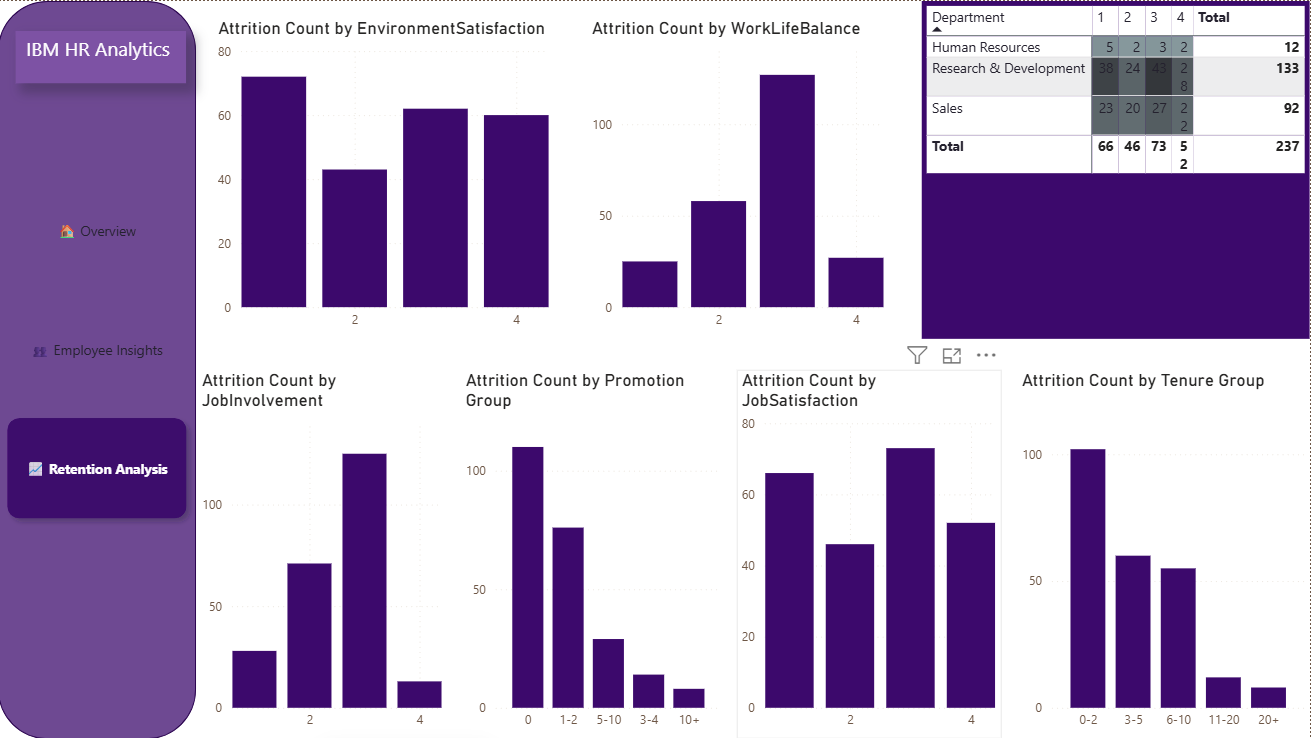

What the dashboard file says about the page in this screenshot:
{"tool":"powerbi","page":{"name":"📈 Retention Analysis","canvas":[1280,720],"ordinal":2},"visuals":[{"type":"clusteredColumnChart","fields":{"Y":["IBM HR.Attrition Count"],"Category":["IBM HR.JobSatisfaction"]},"box":[721.3,360,257.3,360],"z":0},{"type":"shape","box":[0,0,193.2,720.2],"z":500,"group":"g2"},{"type":"clusteredColumnChart","fields":{"Category":["IBM HR.EnvironmentSatisfaction"],"Y":["IBM HR.Attrition Count"]},"box":[210.3,15.9,332.6,313],"z":1000},{"type":"clusteredColumnChart","fields":{"Category":["IBM HR.JobInvolvement"],"Y":["IBM HR.Attrition Count"]},"box":[193.3,360,244,360],"z":2000},{"type":"clusteredColumnChart","fields":{"Y":["IBM HR.Attrition Count"],"Category":["IBM HR.Tenure Group"]},"box":[993.3,360,286.7,360],"z":3000},{"type":"clusteredColumnChart","fields":{"Category":["IBM HR.Promotion Group"],"Y":["IBM HR.Attrition Count"]},"box":[450.7,360,260,360],"z":4000},{"type":"pivotTable","fields":{"Rows":["IBM HR.Department"],"Columns":["IBM HR.JobSatisfaction"],"Values":["IBM HR.Attrition Count"]},"box":[901.3,0,378.7,329.3],"z":5000},{"type":"group","id":"g1","title":"Group 2","box":[0,0,193.2,720.2],"z":6000},{"type":"clusteredColumnChart","fields":{"Category":["IBM HR.WorkLifeBalance"],"Y":["IBM HR.Attrition Count"]},"box":[574.7,15.9,294.7,313],"z":7000},{"type":"textbox","box":[17.1,29.3,166.3,51.4],"z":8000},{"type":"group","id":"g2","title":"Group 1","box":[0,0,193.2,720.2],"z":9002,"group":"g1"},{"type":"pageNavigator","box":[0,166.3,193.2,351],"z":15001,"group":"g2"}]}

Visuals, with their boxes on the page's 1280x720 design canvas (x1, y1, x2, y2). These are canvas units, not pixel positions in the 1311x738 screenshot, which may show the page scaled, cropped or inside an application window:
clusteredColumnChart - IBM HR.Attrition Count x IBM HR.JobSatisfaction: (721,360,979,720)
shape: (0,0,193,720)
clusteredColumnChart - IBM HR.EnvironmentSatisfaction x IBM HR.Attrition Count: (210,16,543,329)
clusteredColumnChart - IBM HR.JobInvolvement x IBM HR.Attrition Count: (193,360,437,720)
clusteredColumnChart - IBM HR.Attrition Count x IBM HR.Tenure Group: (993,360,1280,720)
clusteredColumnChart - IBM HR.Promotion Group x IBM HR.Attrition Count: (451,360,711,720)
pivotTable - IBM HR.Department x IBM HR.JobSatisfaction: (901,0,1280,329)
"Group 2" group: (0,0,193,720)
clusteredColumnChart - IBM HR.WorkLifeBalance x IBM HR.Attrition Count: (575,16,869,329)
textbox: (17,29,183,81)
"Group 1" group: (0,0,193,720)
pageNavigator: (0,166,193,517)
